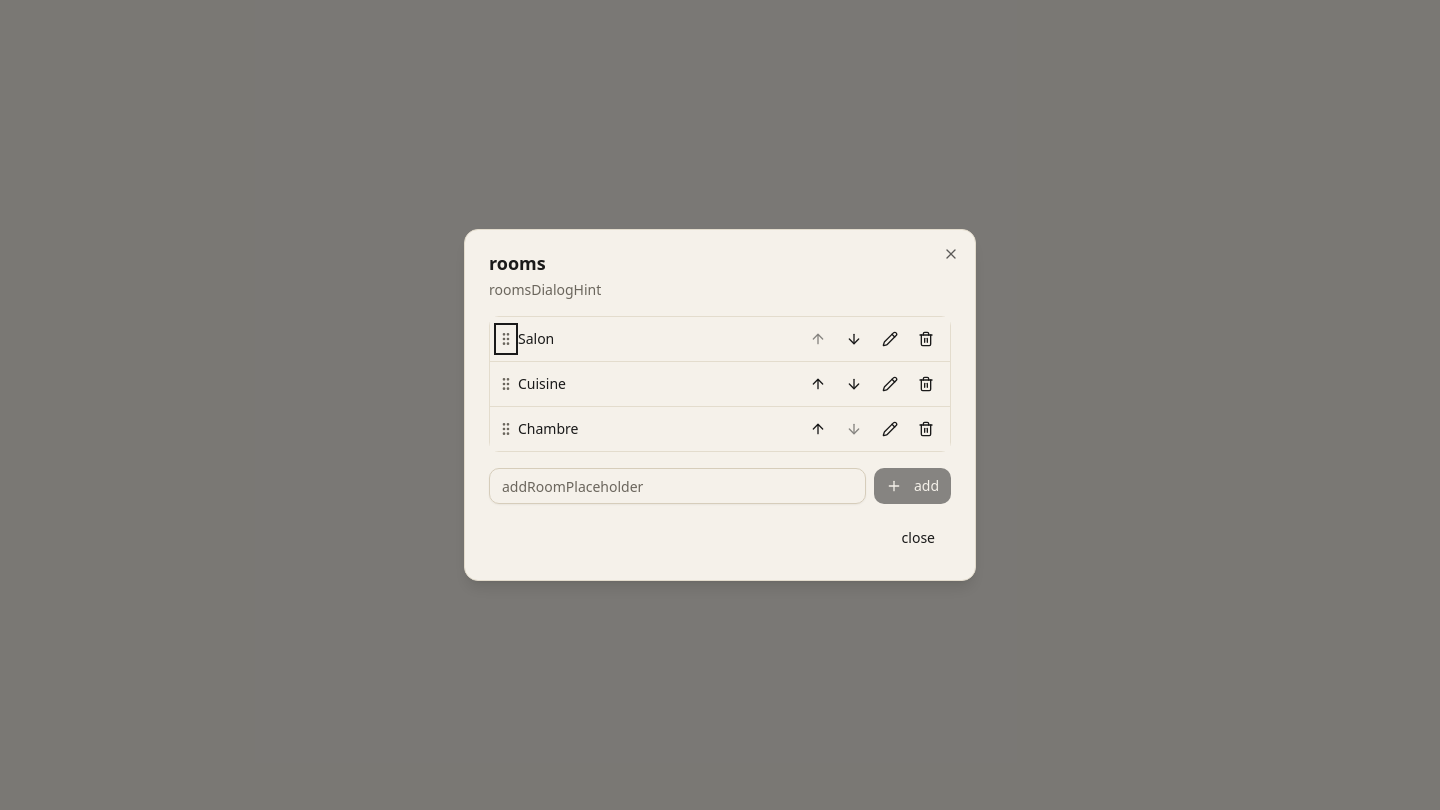
Test: RoomsDialog › abandons a rename on cancel
Click the button named "renameRoom" in the row of "Cuisine" at (890, 384), box x1=874 y1=368 x2=906 y2=400
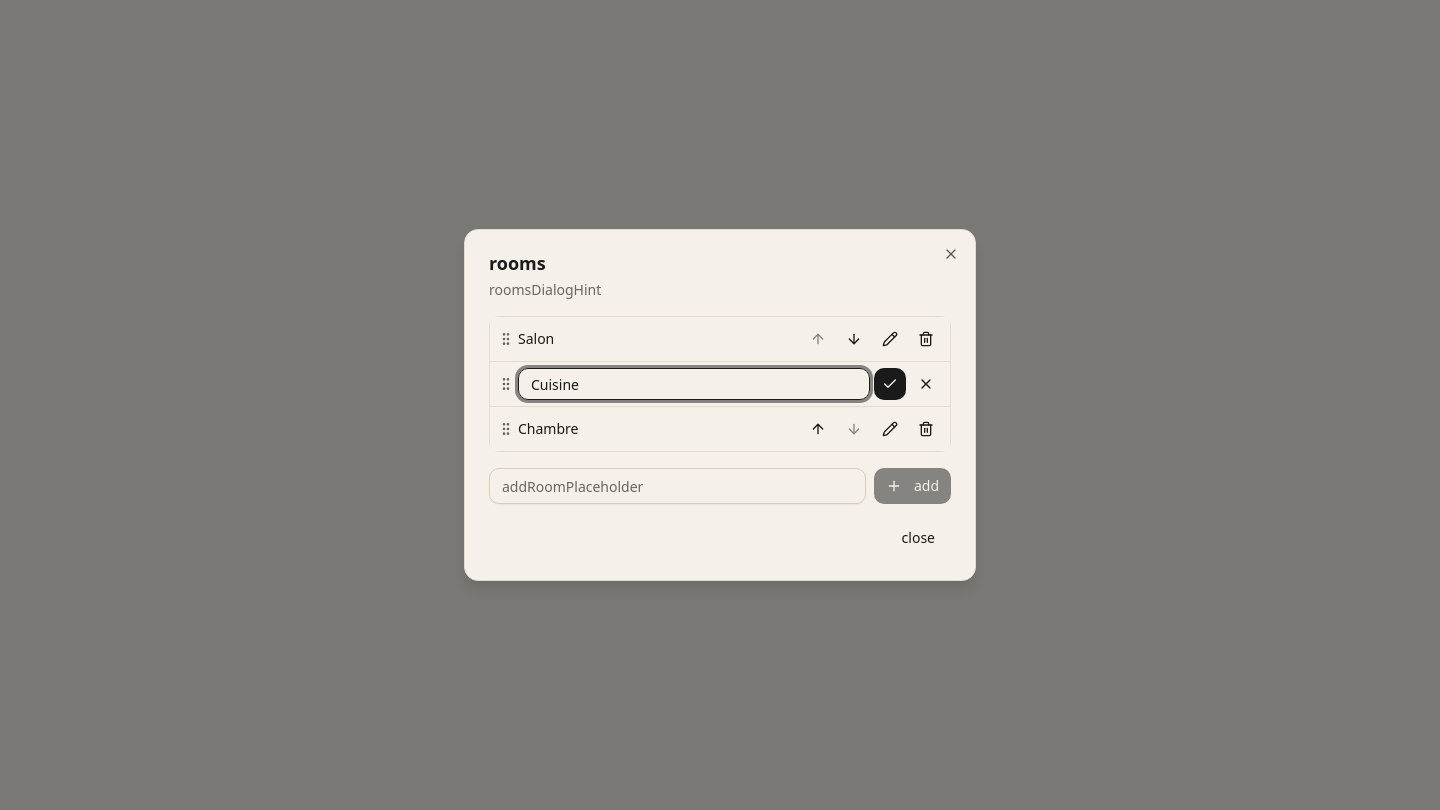
Type " ouverte" into the field named "roomName" at (694, 384), box x1=518 y1=368 x2=870 y2=400
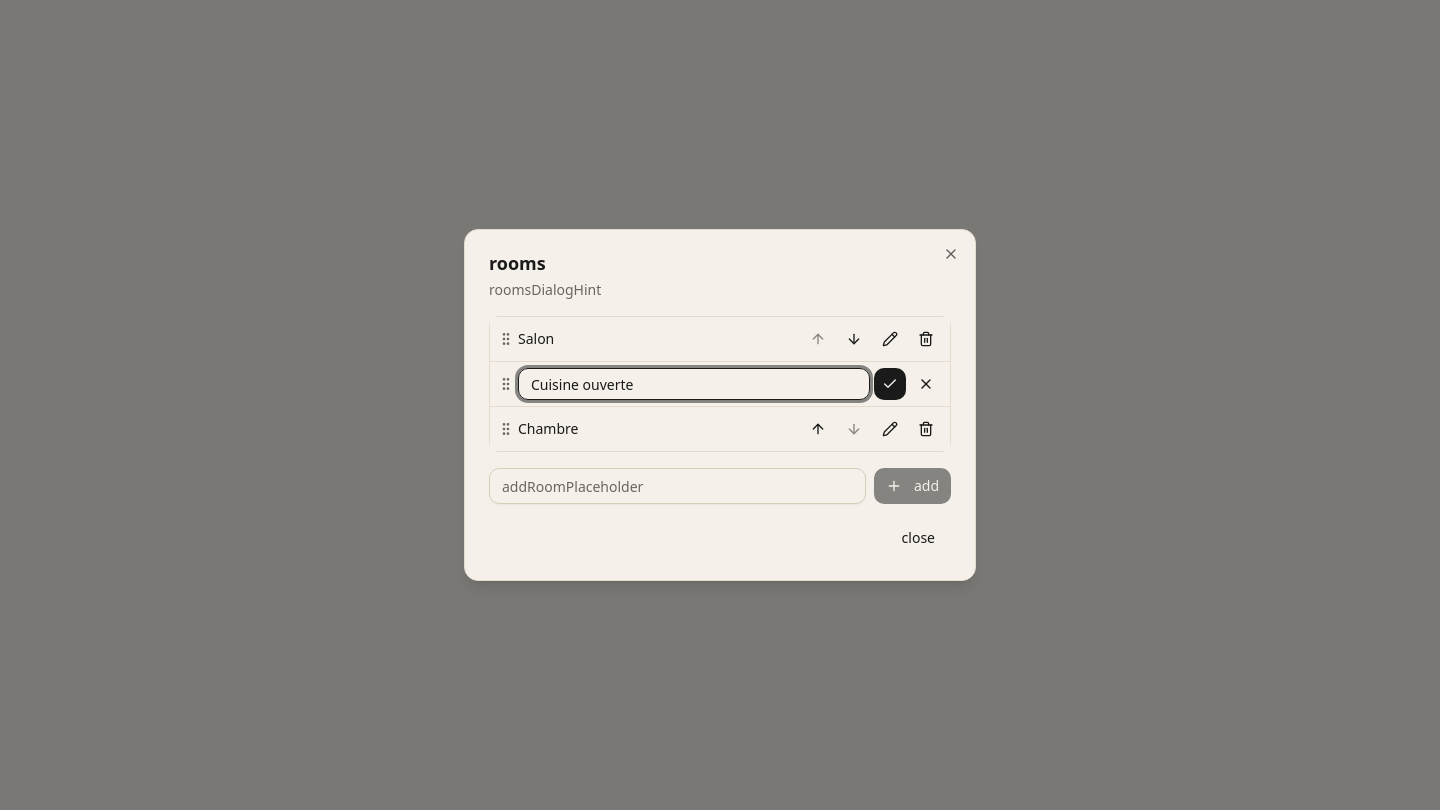
Click the button named "cancel" at (926, 384), box x1=910 y1=368 x2=942 y2=400
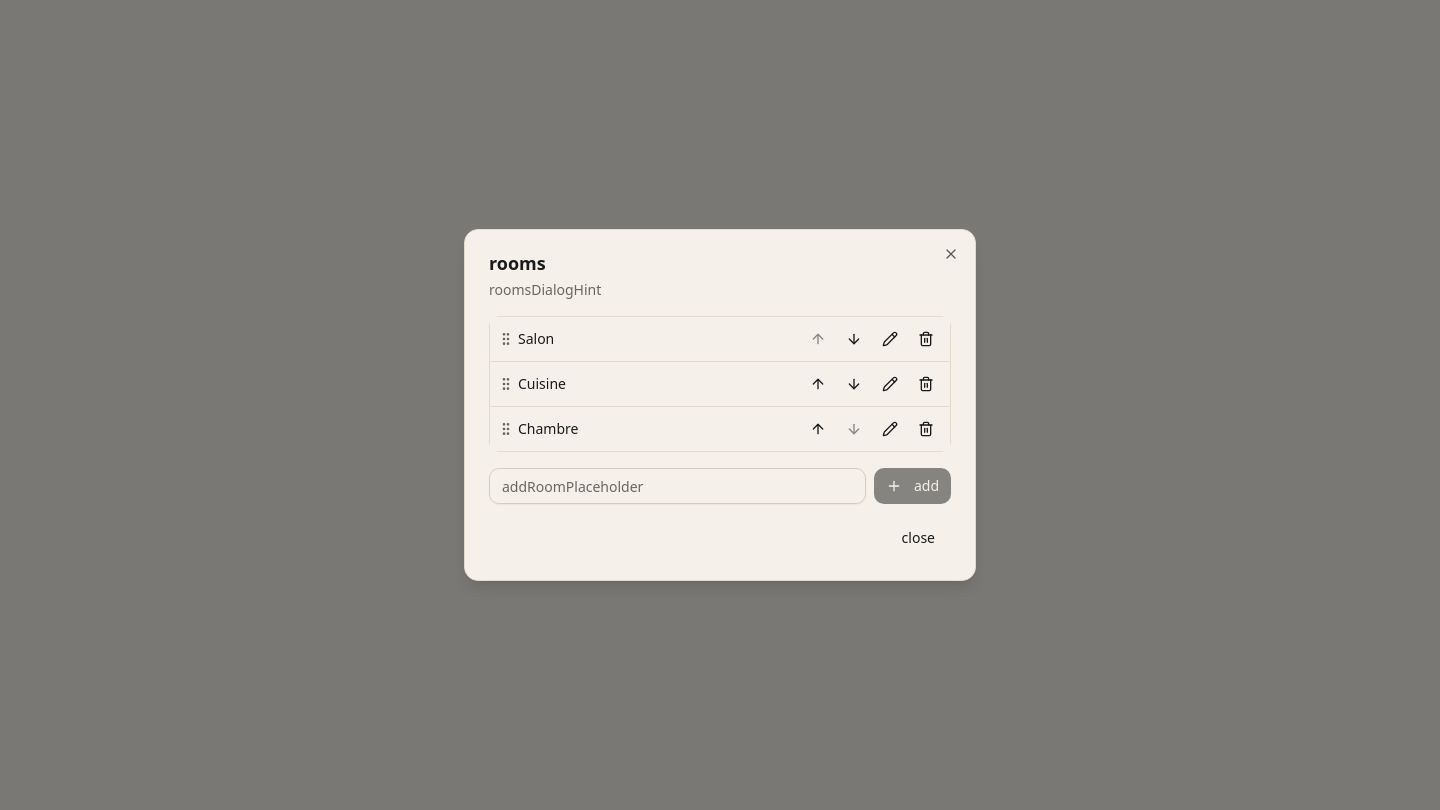
Result: the list item with test id "room-row" reads "Cuisine" at x1=518 y1=374 x2=566 y2=393
